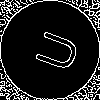U: (25, 25, 81, 75)
